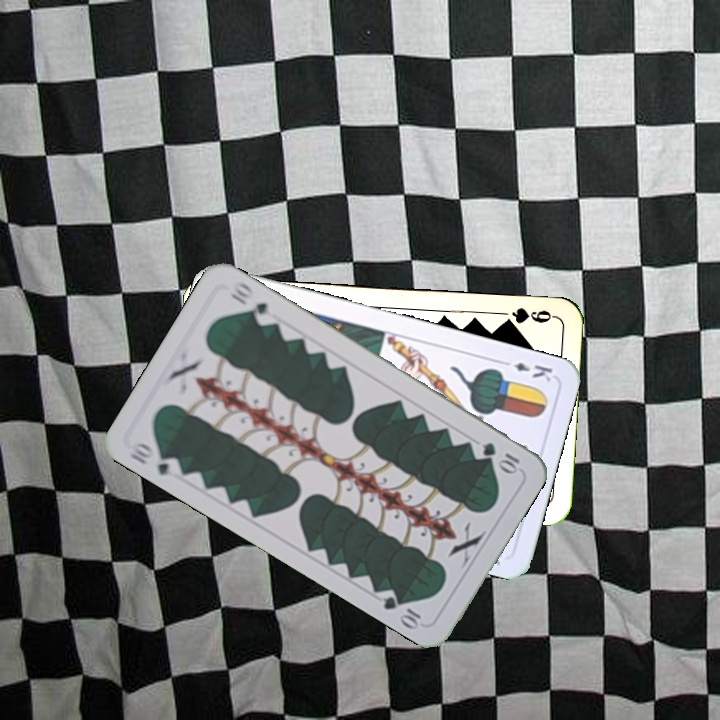EK: (497, 356, 555, 384)
G10: (125, 437, 184, 481), (477, 438, 523, 476)
G9: (497, 304, 557, 329)
